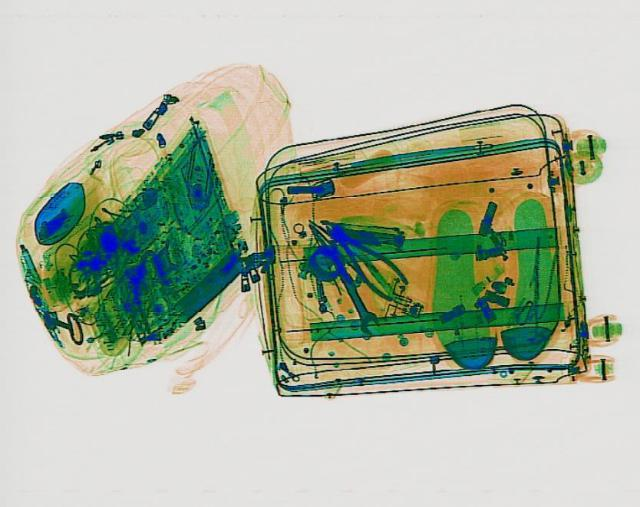Pliers: (310, 212, 418, 303)
Wrench: (313, 235, 385, 336)
